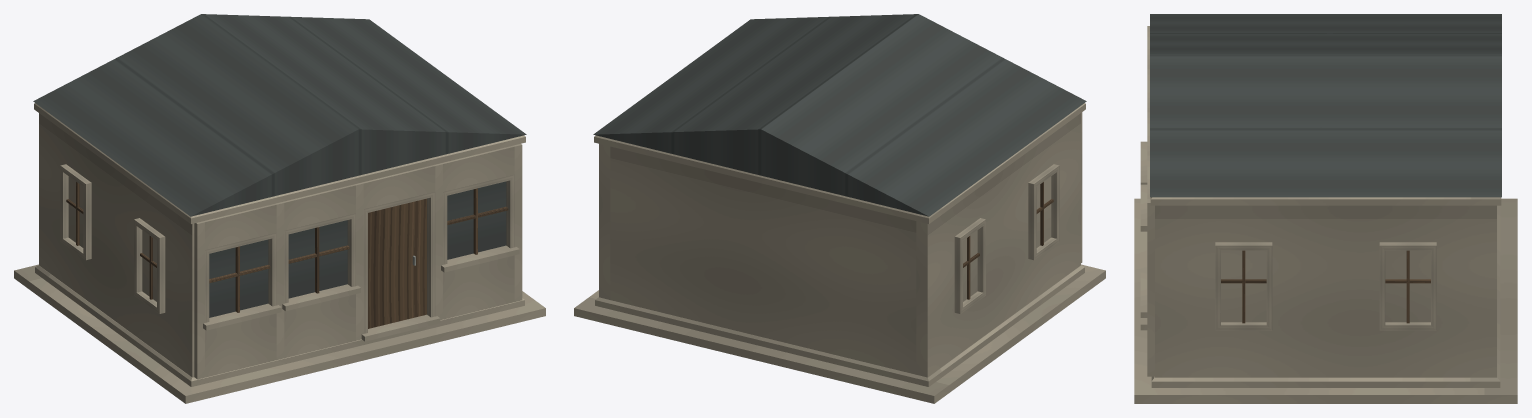
File: grytviken.glb
The picture shows the model from 3 angles, left to right: view 1: azimuth 30°, elevation 25°; view 2: azimuth 150°, elevation 25°; view 3: azimuth 270°, elevation 25°; orthographic projection. The views are drawn at different scales.
Parts seen in each view (by area): view 1: grytviken; view 2: grytviken; view 3: grytviken.
Part boxes in pixels (left/top/right/bottom): grytviken: left=14, top=14, right=545, bottom=403; grytviken: left=574, top=14, right=1105, bottom=403; grytviken: left=1134, top=14, right=1517, bottom=403.
Bounding box in the file's own units: 5.7 × 3.41 × 4.7.
1 material, 1 textured.
